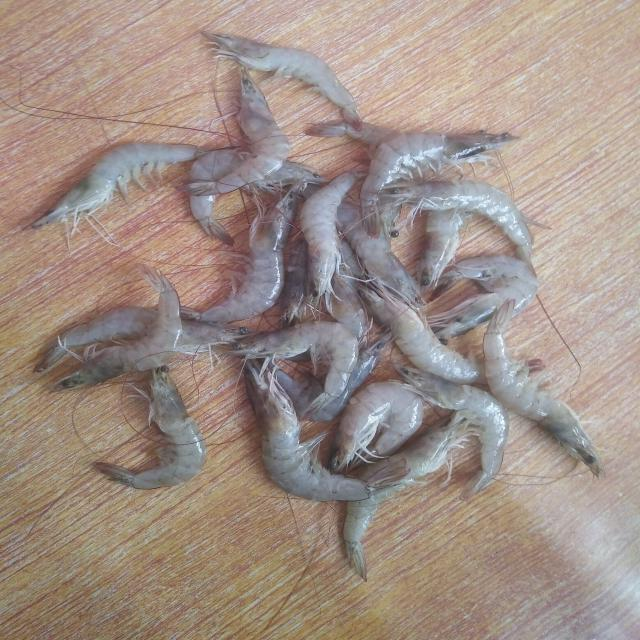shrimp: (244, 360, 411, 502), (344, 413, 479, 581), (484, 299, 606, 477), (359, 131, 522, 239), (53, 265, 182, 391), (201, 30, 362, 130), (380, 180, 537, 278), (32, 142, 205, 230), (395, 366, 509, 499), (200, 181, 305, 323), (35, 307, 257, 371), (178, 69, 290, 195), (94, 366, 206, 490), (189, 150, 333, 245), (360, 286, 487, 384), (229, 321, 359, 415), (275, 331, 393, 422), (337, 200, 426, 318), (301, 167, 369, 309), (429, 255, 539, 340), (330, 382, 423, 473), (418, 208, 472, 299)
